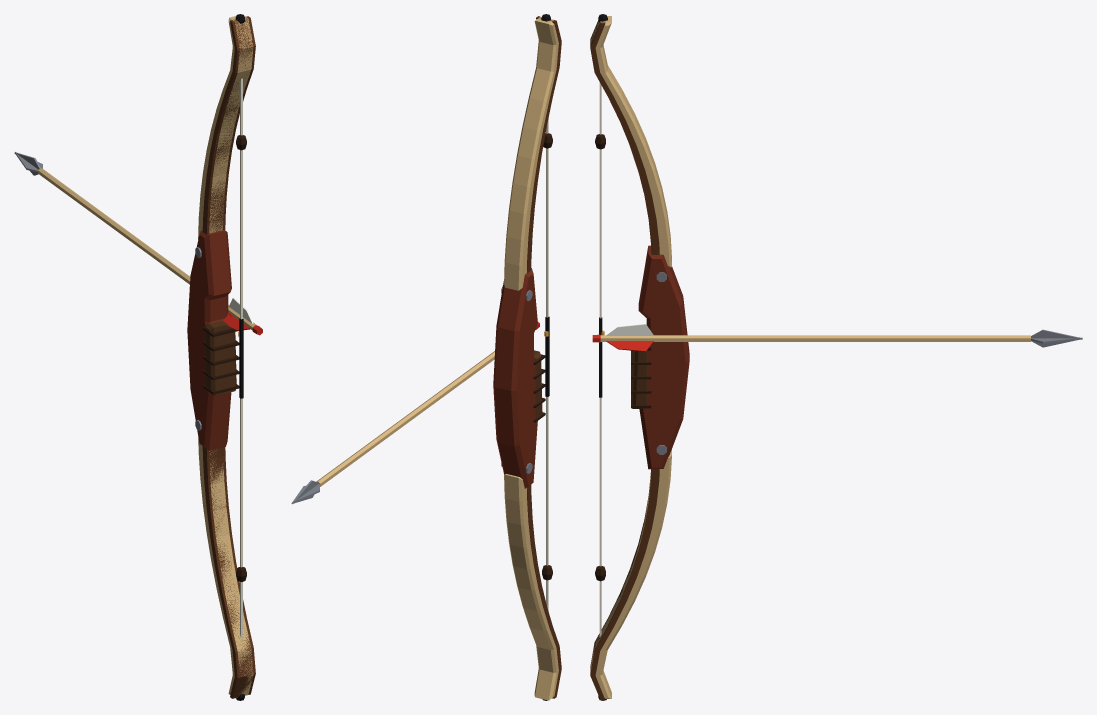
File: bow.glb
3 renders of one model, left to right at view 1: azimuth 30°, elevation 25°; view 2: azimuth 150°, elevation 25°; view 3: azimuth 270°, elevation 25°, orthographic.
Visible parts, largest first — view 1: body, arrow, string_bot, string_top; view 2: body, arrow, string_bot, string_top; view 3: body, arrow, string_bot, string_top.
Boxes of the visible parts, x1,y1,x2,y2 form: body: (187, 14, 255, 700); arrow: (14, 152, 262, 335); string_bot: (236, 331, 246, 638); string_top: (236, 78, 246, 358); body: (493, 14, 561, 700); arrow: (291, 321, 539, 504); string_bot: (542, 331, 552, 610); string_top: (543, 118, 552, 357); body: (590, 14, 689, 700); arrow: (592, 324, 1082, 351); string_bot: (595, 330, 605, 637); string_top: (595, 82, 605, 358).
Size of the model in its own units: 0.058 by 0.954 by 0.6201.
